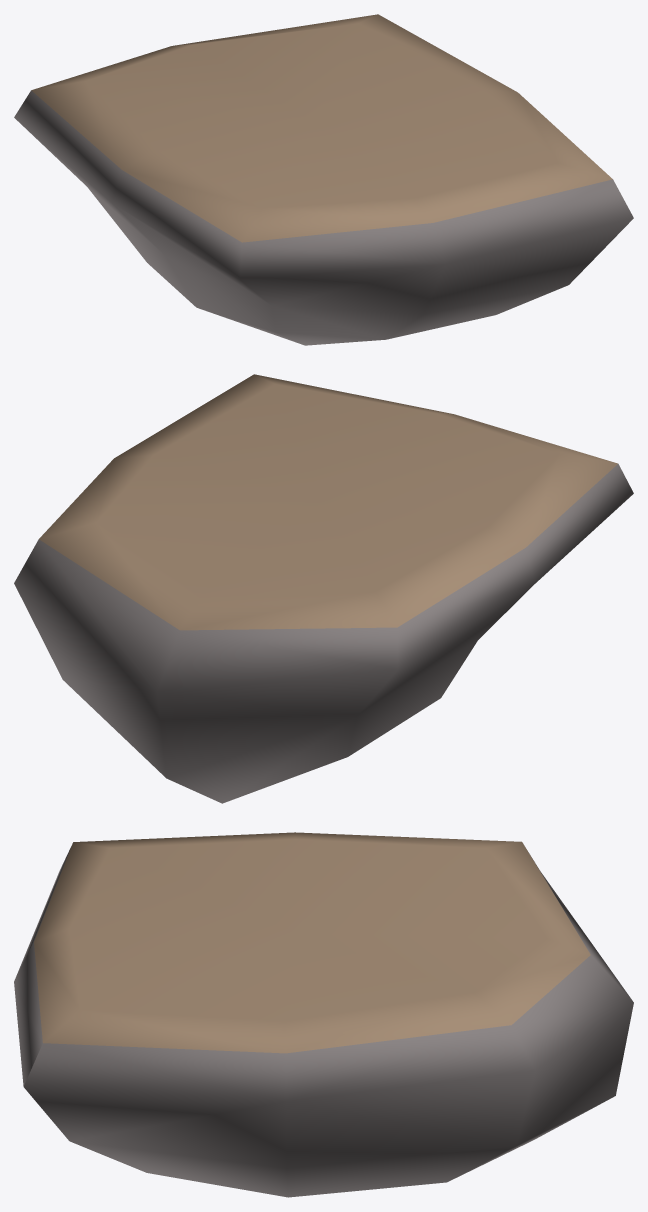
File: Schwebestein_4.fbx
3 renders of one model, top to bottom at view 1: azimuth 30°, elevation 25°; view 2: azimuth 150°, elevation 25°; view 3: azimuth 270°, elevation 25°, orthographic. The views are drawn at different scales.
Visible parts, largest first — view 1: Schwebestein_4; view 2: Schwebestein_4; view 3: Schwebestein_4.
Boxes of the visible parts, <box> form: Schwebestein_4: <box>14,14,633,345</box>; Schwebestein_4: <box>14,374,633,803</box>; Schwebestein_4: <box>14,832,633,1197</box>.
Size of the model in its own units: 657 by 359 by 789.
